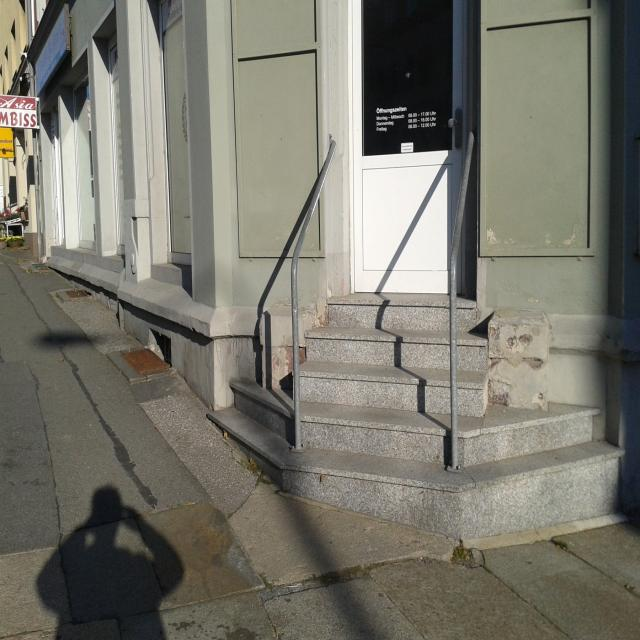AVOID: (293, 294, 626, 538)
